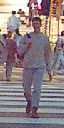person: (20, 15, 55, 117)
